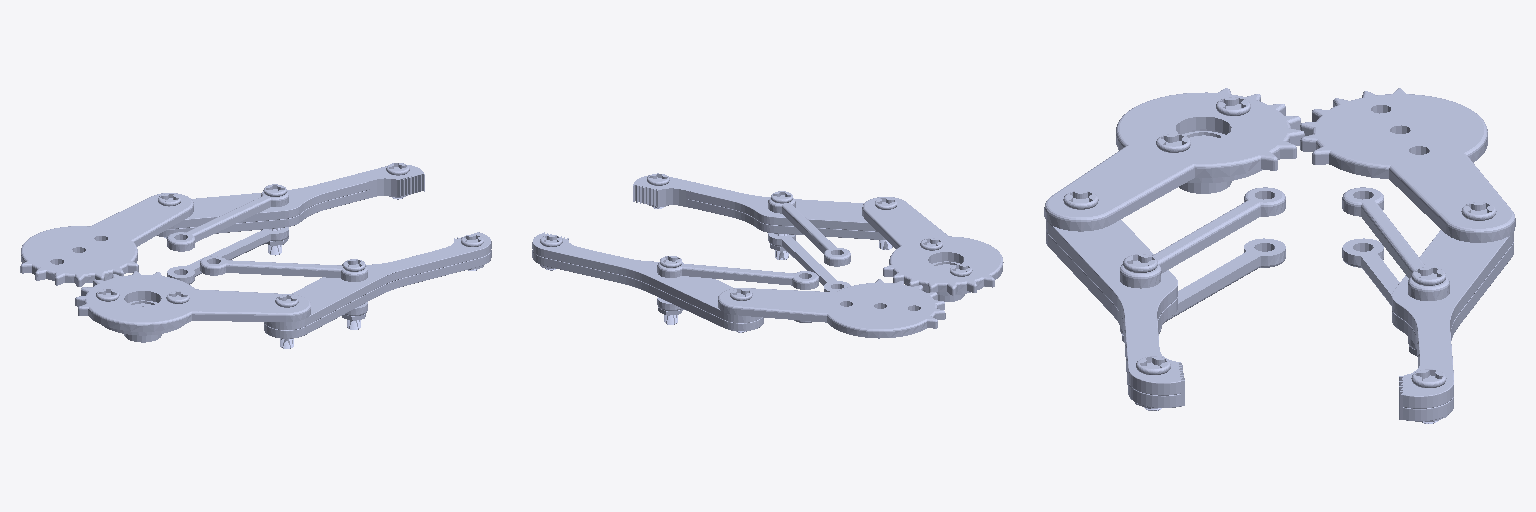
URDF robot description (gripper):
<!-- This URDF was automatically created by SolidWorks to URDF Exporter! Originally created by [author] ([email redacted]) 
     Commit Version: 1.6.0-4-g7f85cfe  Build Version: 1.6.7995.38578
     For more information, please see http://wiki.ros.org/sw_urdf_exporter -->
<robot
  name="gripper"
  xmlns:xacro="http://ros.org/wiki/xacro">

  <link
    name="end_base">
    <inertial>
      <origin xyz="0 0 0" rpy="0 0 0"/>
      <mass value="0.4"/>
      <inertia
        ixx="0.01"
        ixy="0.0"
        ixz="0.0"
        iyy="0.01"
        iyz="0.0"
        izz="0.01"/>
    </inertial>

    <visual>
      <origin
        xyz="0 0 0"
        rpy="0 0 0" />
      <geometry>
        <mesh
          filename="package://aligned_arm/meshes/end_base.STL" />
      </geometry>
      <material
        name="">
        <color
          rgba="0.792156862745098 0.819607843137255 0.933333333333333 1" />
      </material>
    </visual>
    <collision>
      <origin
        xyz="0 0 0"
        rpy="0 0 0" />
      <geometry>
        <mesh
          filename="package://aligned_arm/meshes/end_base.STL" />
      </geometry>
    </collision>
  </link>
  <!-- <joint
    name="end_joint"
    type="revolute">
    <origin
      xyz="0.0545990000041253 0.0259989999957502 0.0269999999957503"
      rpy="0.0529233606550124 0 0" />
    <parent
      link="wrist_Link" />
    <child
      link="end_base" />
    <axis
      xyz="-1 0 0" />
    <limit
      lower="-1.57"
      upper="1.57"
      effort="1"
      velocity="1" />
    <dynamics damping="0.5" friction="0.1"/>
  </joint> -->
  <link
    name="gear_right">
    <inertial>
      <origin xyz="0 0 0" rpy="0 0 0"/>
      <mass value="0.1"/>
      <inertia
        ixx="0.01"
        ixy="0.0"
        ixz="0.0"
        iyy="0.01"
        iyz="0.0"
        izz="0.01"/>
    </inertial>

    <visual>
      <origin
        xyz="0 0 0"
        rpy="0 0 0" />
      <geometry>
        <mesh
          filename="package://aligned_arm/meshes/gear_right.STL" />
      </geometry>
      <material
        name="">
        <color
          rgba="0.792156862745098 0.819607843137255 0.933333333333333 1" />
      </material>
    </visual>
    <collision>
      <origin
        xyz="0 0 0"
        rpy="0 0 0" />
      <geometry>
        <mesh
          filename="package://aligned_arm/meshes/gear_right.STL" />
      </geometry>
    </collision>
  </link>
  <joint
    name="gear_right_joint"
    type="revolute">
    <origin
      xyz="0.03 -0.015741 0.0043"
      rpy="0 0 -0.60373" />
    <parent
      link="end_base" />
    <child
      link="gear_right" />
    <axis
      xyz="0 0 -1" />
    <limit
      lower="-1.57"
      upper="1.57"
      effort="1"
      velocity="1" />
    <dynamics damping="0.5" friction="0.1"/>
  </joint>
  <link
    name="finger_right">
    <inertial>
      <origin xyz="0 0 0" rpy="0 0 0"/>
      <mass value="0.1"/>
      <inertia
        ixx="0.01"
        ixy="0.0"
        ixz="0.0"
        iyy="0.01"
        iyz="0.0"
        izz="0.01"/>
    </inertial>

    <visual>
      <origin
        xyz="0 0 0"
        rpy="0 0 0" />
      <geometry>
        <mesh
          filename="package://aligned_arm/meshes/finger_right.STL" />
      </geometry>
      <material
        name="">
        <color
          rgba="0.792156862745098 0.819607843137255 0.933333333333333 1" />
      </material>
    </visual>
    <collision>
      <origin
        xyz="0 0 0"
        rpy="0 0 0" />
      <geometry>
        <mesh
          filename="package://aligned_arm/meshes/finger_right.STL" />
      </geometry>
    </collision>
  </link>
  <joint
    name="finger_right_joint"
    type="revolute">
    <origin
      xyz="0.030762 0 0.0025"
      rpy="0 0 0.98133" />
    <parent
      link="gear_right" />
    <child
      link="finger_right" />
    <axis
      xyz="0 0 1" />
    <limit
      lower="-1.57"
      upper="1.57"
      effort="1"
      velocity="1" />
    <mimic
      joint="gear_right_joint"
      multiplier="1"
      offset="0" />
    <dynamics damping="0.5" friction="0.1"/>
  </joint>
  <link
    name="gear_left">
    <inertial>
      <origin xyz="0 0 0" rpy="0 0 0"/>
      <mass value="0.1"/>
      <inertia
        ixx="0.01"
        ixy="0.0"
        ixz="0.0"
        iyy="0.01"
        iyz="0.0"
        izz="0.01"/>
    </inertial>

    <visual>
      <origin
        xyz="0 0 0"
        rpy="0 0 0" />
      <geometry>
        <mesh
          filename="package://aligned_arm/meshes/gear_left.STL" />
      </geometry>
      <material
        name="">
        <color
          rgba="0.792156862745098 0.819607843137255 0.933333333333333 1" />
      </material>
    </visual>
    <collision>
      <origin
        xyz="0 0 0"
        rpy="0 0 0" />
      <geometry>
        <mesh
          filename="package://aligned_arm/meshes/gear_left.STL" />
      </geometry>
    </collision>
  </link>
  <joint
    name="gear_left_joint"
    type="revolute">
    <origin
      xyz="0.0305 0.01226 0.0068"
      rpy="0 0 0.3732" />
    <parent
      link="end_base" />
    <child
      link="gear_left" />
    <axis
      xyz="0 0 -1" />
    <limit
      lower="-1.57"
      upper="1.57"
      effort="1"
      velocity="1" />
    <mimic
      joint="gear_right_joint"
      multiplier="-1"
      offset="0" />
    <dynamics damping="0.5" friction="0.1"/>
  </joint>
  <link
    name="finger_left">
    <inertial>
      <origin xyz="0 0 0" rpy="0 0 0"/>
      <mass value="0.1"/>
      <inertia
        ixx="0.01"
        ixy="0.0"
        ixz="0.0"
        iyy="0.01"
        iyz="0.0"
        izz="0.01"/>
    </inertial>

    <visual>
      <origin
        xyz="0 0 0"
        rpy="0 0 0" />
      <geometry>
        <mesh
          filename="package://aligned_arm/meshes/finger_left.STL" />
      </geometry>
      <material
        name="">
        <color
          rgba="0.792156862745098 0.819607843137255 0.933333333333333 1" />
      </material>
    </visual>
    <collision>
      <origin
        xyz="0 0 0"
        rpy="0 0 0" />
      <geometry>
        <mesh
          filename="package://aligned_arm/meshes/finger_left.STL" />
      </geometry>
    </collision>
  </link>
  <joint
    name="finger_left_joint"
    type="revolute">
    <origin
      xyz="0.030762 0 0"
      rpy="0 0 -0.68869" />
    <parent
      link="gear_left" />
    <child
      link="finger_left" />
    <axis
      xyz="0 0 1" />
    <limit
      lower="-1.57"
      upper="1.57"
      effort="1"
      velocity="1" />
    <mimic
      joint="gear_left_joint"
      multiplier="1"
      offset="0" />
    <dynamics damping="0.5" friction="0.1"/>
  </joint>
  <link
    name="anchor_right">
    <inertial>
      <origin xyz="0 0 0" rpy="0 0 0"/>
      <mass value="0.1"/>
      <inertia
        ixx="0.01"
        ixy="0.0"
        ixz="0.0"
        iyy="0.01"
        iyz="0.0"
        izz="0.01"/>
    </inertial>

    <visual>
      <origin
        xyz="0 0 0"
        rpy="0 0 0" />
      <geometry>
        <mesh
          filename="package://aligned_arm/meshes/anchor_right.STL" />
      </geometry>
      <material
        name="">
        <color
          rgba="0.792156862745098 0.819607843137255 0.933333333333333 1" />
      </material>
    </visual>
    <collision>
      <origin
        xyz="0 0 0"
        rpy="0 0 0" />
      <geometry>
        <mesh
          filename="package://aligned_arm/meshes/anchor_right.STL" />
      </geometry>
    </collision>
  </link>
  <joint
    name="anchor_right_joint"
    type="revolute">
    <origin
      xyz="0.0525 -0.007 0.0068"
      rpy="0 0 -0.6321" />
    <parent
      link="end_base" />
    <child
      link="anchor_right" />
    <axis
      xyz="0 0 -1" />
    <limit
      lower="-1.57"
      upper="1.57"
      effort="1"
      velocity="1" />
    <mimic
      joint="gear_right_joint"
      multiplier="1"
      offset="0" />
    <dynamics damping="0.5" friction="0.1"/>
  </joint>
  <link
    name="anchor_left">
    <inertial>
      <origin xyz="0 0 0" rpy="0 0 0"/>
      <mass value="0.1"/>
      <inertia
        ixx="0.01"
        ixy="0.0"
        ixz="0.0"
        iyy="0.01"
        iyz="0.0"
        izz="0.01"/>
    </inertial>

    <visual>
      <origin
        xyz="0 0 0"
        rpy="0 0 0" />
      <geometry>
        <mesh
          filename="package://aligned_arm/meshes/anchor_left.STL" />
      </geometry>
      <material
        name="">
        <color
          rgba="0.792156862745098 0.819607843137255 0.933333333333333 1" />
      </material>
    </visual>
    <collision>
      <origin
        xyz="0 0 0"
        rpy="0 0 0" />
      <geometry>
        <mesh
          filename="package://aligned_arm/meshes/anchor_left.STL" />
      </geometry>
    </collision>
  </link>
  <joint
    name="anchor_left_joint"
    type="revolute">
    <origin
      xyz="0.0525 0.007 0.0068"
      rpy="0 0 0.31658" />
    <parent
      link="end_base" />
    <child
      link="anchor_left" />
    <axis
      xyz="0 0 -1" />
    <limit
      lower="-1.57"
      upper="1.57"
      effort="1"
      velocity="1" />
    <mimic
      joint="gear_left_joint"
      multiplier="1"
      offset="0" />
    <dynamics damping="0.5" friction="0.1"/>
  </joint>

  <link name="wrist_camera_link"/>
  <joint name="wrist_camera_joint" type="fixed">
    <parent link="end_base"/>
    <child link="wrist_camera_link"/>
    <origin xyz="0.05 0 0" rpy="0 0 0"/>
  </joint>

  <gazebo reference="wrist_camera_link">
    <sensor type="camera" name="wrist_camera">
      <always_on>true</always_on>
      <update_rate>30</update_rate>

      <camera>
        <horizontal_fov>1.047</horizontal_fov>
        <image>
          <width>640</width>
          <height>480</height>
          <format>R8G8B8</format>
        </image>
        <clip>
          <near>0.01</near>
          <far>10.0</far>
        </clip>
      </camera>

      <plugin name="gazebo_ros_camera" filename="libgazebo_ros_camera.so">
        <camera_name>wrist_camera</camera_name>
        <frame_name>wrist_camera_link</frame_name>
        <image_topic_name>image_raw</image_topic_name>
        <camera_info_topic_name>camera_info</camera_info_topic_name>
      </plugin>
    </sensor>
  </gazebo>

</robot>

--- Render facts (derived) ---
Views: 3 orthographic renders of the robot side by side, from view 1: azimuth 30°, elevation 25°; view 2: azimuth 150°, elevation 25°; view 3: azimuth 270°, elevation 25°.
Robot: gripper — 8 links, 7 joints (6 revolute, 1 fixed); root link end_base; default pose: every joint at zero.
Visible links, largest first — view 1: gear_right, gear_left, finger_right, finger_left, anchor_left, anchor_right; view 2: gear_left, gear_right, finger_right, finger_left, anchor_right, anchor_left; view 3: gear_right, gear_left, finger_right, finger_left, anchor_right, anchor_left.
Link boxes in pixels (bbox=[...]): gear_right: bbox=[75, 271, 310, 342]; gear_left: bbox=[20, 193, 193, 286]; finger_right: bbox=[264, 232, 491, 348]; finger_left: bbox=[157, 163, 424, 255]; anchor_left: bbox=[167, 191, 288, 284]; anchor_right: bbox=[200, 256, 367, 315]; gear_left: bbox=[718, 279, 945, 338]; gear_right: bbox=[862, 197, 1003, 301]; finger_right: bbox=[633, 173, 896, 259]; finger_left: bbox=[532, 232, 763, 332]; anchor_right: bbox=[768, 198, 850, 291]; anchor_left: bbox=[657, 262, 818, 322]; gear_right: bbox=[1044, 88, 1304, 231]; gear_left: bbox=[1300, 88, 1515, 242]; finger_right: bbox=[1046, 191, 1184, 410]; finger_left: bbox=[1392, 202, 1513, 423]; anchor_right: bbox=[1120, 187, 1285, 333]; anchor_left: bbox=[1342, 187, 1449, 349].
Bounding box of the posed robot: 0.1001 × 0.0671 × 0.0151 m (x, y, z).
Meshes: 7 distinct files referenced, 6 mesh visuals loaded (6 binary STL); not drawn: 1 (reference not matched to a file when rendering).